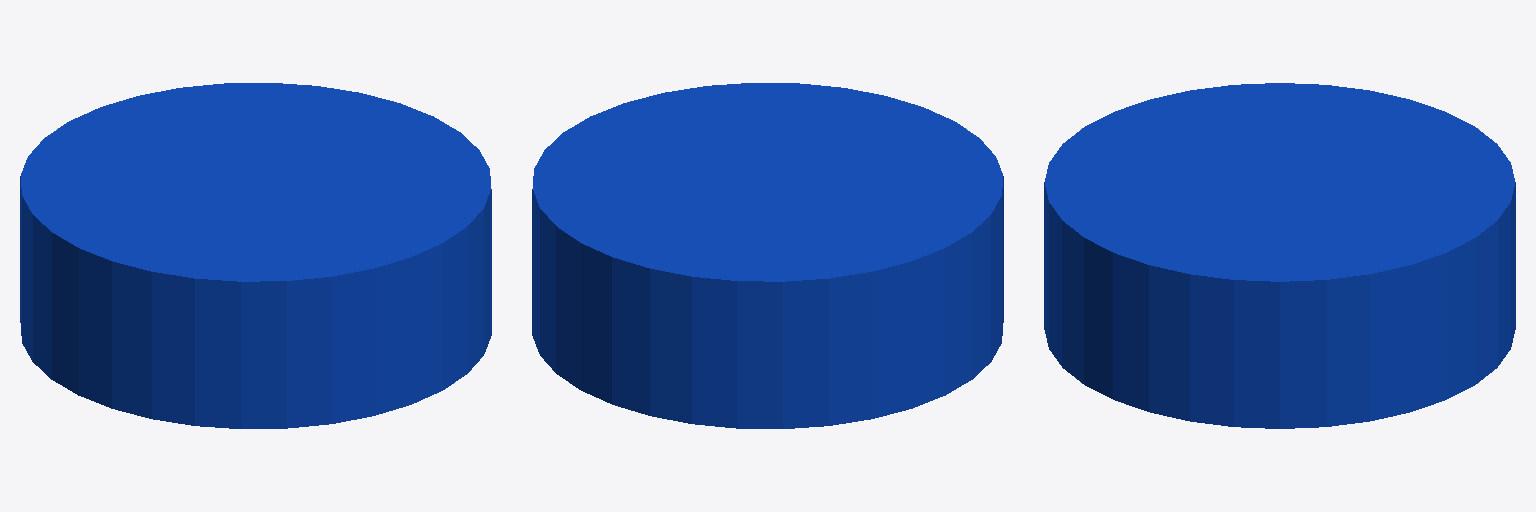
robot.urdf — robovigor_sentry_simple:
<?xml version="1.0"?>
<!-- 简化包络模型：整车最大直径已确认 0.58 m；高度和质量暂定，后续用正式 URDF 替换。 -->
<robot name="robovigor_sentry_simple">
  <!-- 底盘坐标：x 向前，y 向左，z 向上；原点设在车体几何中心。 -->
  <link name="base_link">
    <visual>
      <geometry>
        <!-- 单位：米；包络半径 0.29，高度暂定 0.20；圆柱轴沿 z 方向。 -->
        <cylinder radius="0.29" length="0.20"/>
      </geometry>
      <material name="robovigor_blue">
        <color rgba="0.1 0.35 0.8 1.0"/>
      </material>
    </visual>
    <!-- 碰撞外形暂时与视觉外形一致。 -->
    <collision>
      <geometry>
        <cylinder radius="0.29" length="0.20"/>
      </geometry>
    </collision>
    <inertial>
      <!-- 临时质量 10 kg；均匀实心圆柱惯量，单位 kg*m^2。
           Ixx=Iyy=m*(3*r*r+h*h)/12，Izz=m*r*r/2。 -->
      <mass value="10.0"/>
      <inertia ixx="0.243583333" ixy="0" ixz="0"
               iyy="0.243583333" iyz="0" izz="0.4205"/>
    </inertial>
  </link>
  <!-- 理想全向平面运动：用于导航接口验证，不模拟真实麦轮接触和打滑。 -->
  <gazebo>
    <plugin name="sentry_planar_move" filename="libgazebo_ros_planar_move.so">
      <ros>
        <namespace>/</namespace>
        <remapping>cmd_vel:=cmd_vel</remapping>
        <remapping>odom:=odom</remapping>
      </ros>
      <!-- 仿真更新与反馈发布频率，单位 Hz。 -->
      <update_rate>100.0</update_rate>
      <publish_rate>30.0</publish_rate>
      <publish_odom>true</publish_odom>
      <publish_odom_tf>true</publish_odom_tf>
      <odometry_frame>odom</odometry_frame>
      <robot_base_frame>base_link</robot_base_frame>
    </plugin>
  </gazebo>
</robot>

--- What the picture shows (computed from the rendered views, not written in the file) ---
The picture shows the robot from 3 angles, left to right: view 1: azimuth 30°, elevation 25°; view 2: azimuth 150°, elevation 25°; view 3: azimuth 270°, elevation 25°; orthographic projection.
Model robovigor_sentry_simple with 1 links and 0 joints (none), rooted at base_link, posed every joint at zero.
Links seen in each view (by area): view 1: base_link; view 2: base_link; view 3: base_link.
Boxes of the visible links, x1=… form: base_link: x1=20, y1=83, x2=491, y2=428; base_link: x1=532, y1=83, x2=1003, y2=428; base_link: x1=1044, y1=83, x2=1515, y2=428.
Bounding box of the posed robot: 0.58 × 0.58 × 0.2 m (x, y, z).
Geometry: primitives only (box / cylinder / sphere), no mesh files.
